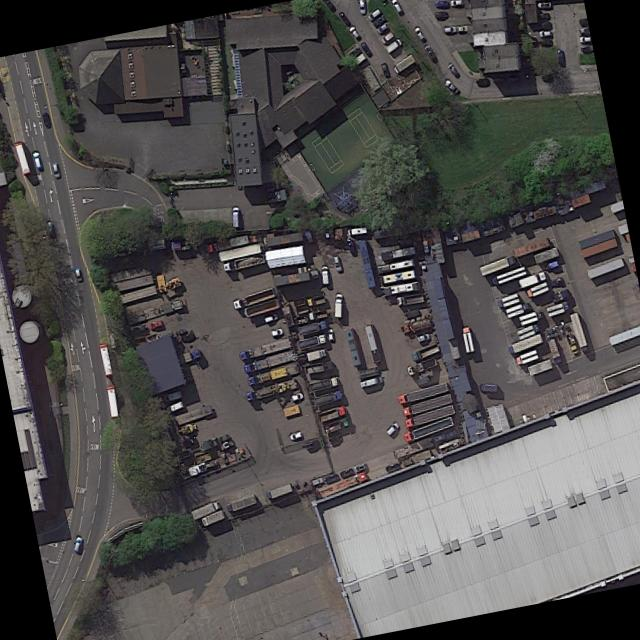large-vehicle: (124, 297, 184, 326), (313, 469, 368, 499), (242, 348, 296, 374), (244, 376, 298, 402), (401, 415, 453, 442), (237, 336, 292, 361), (402, 403, 454, 428), (245, 362, 299, 386), (401, 392, 452, 416), (395, 381, 448, 404), (356, 238, 376, 289), (231, 287, 274, 310), (203, 233, 248, 254), (222, 252, 265, 272), (478, 253, 515, 276), (568, 311, 588, 352), (506, 332, 542, 354), (490, 264, 526, 286), (343, 326, 362, 367), (363, 322, 381, 364), (379, 279, 420, 297), (405, 355, 438, 376), (375, 257, 414, 274), (189, 499, 220, 520), (12, 139, 30, 175), (311, 388, 343, 408), (379, 244, 416, 261), (315, 403, 346, 423), (225, 493, 256, 513), (409, 341, 440, 361), (516, 269, 546, 289), (378, 268, 415, 284), (196, 508, 225, 527), (296, 318, 326, 336), (321, 415, 349, 434), (173, 347, 201, 366), (308, 375, 339, 392), (264, 481, 293, 499), (296, 332, 326, 349), (98, 343, 113, 377), (391, 53, 415, 73), (544, 300, 570, 318), (504, 301, 529, 319), (302, 360, 334, 374), (105, 384, 118, 418), (517, 309, 543, 326), (546, 337, 562, 364), (513, 348, 538, 365), (525, 280, 548, 298), (516, 323, 540, 340), (495, 292, 519, 309), (395, 292, 424, 306), (461, 325, 474, 353), (564, 331, 579, 355), (358, 374, 383, 388), (304, 347, 327, 362), (548, 289, 569, 303), (384, 37, 402, 53), (305, 294, 325, 307), (307, 308, 327, 320), (333, 292, 342, 318), (346, 225, 366, 235), (478, 382, 497, 392), (230, 207, 239, 227), (321, 265, 329, 284)
small-vehicle: (164, 399, 183, 412), (443, 78, 458, 93), (181, 435, 197, 449), (422, 43, 436, 59), (162, 390, 182, 401), (30, 150, 42, 168), (346, 24, 360, 39), (338, 10, 351, 26), (414, 373, 430, 386), (347, 46, 362, 59), (359, 40, 371, 56), (131, 322, 147, 334), (413, 25, 425, 41), (44, 220, 55, 237), (345, 236, 356, 253), (180, 330, 194, 343), (371, 13, 385, 26), (385, 421, 398, 435), (338, 466, 353, 478), (445, 61, 457, 76), (322, 472, 338, 483), (384, 461, 400, 472), (322, 0, 336, 12), (390, 0, 402, 14), (352, 461, 367, 472), (303, 439, 319, 449), (403, 308, 419, 318), (332, 255, 342, 271), (380, 31, 393, 43), (367, 8, 380, 20), (376, 21, 389, 33), (72, 535, 81, 552), (41, 112, 50, 128), (310, 475, 323, 486), (549, 276, 563, 286), (51, 161, 59, 178), (262, 313, 277, 322), (72, 267, 81, 282), (289, 391, 302, 401), (288, 430, 301, 440), (380, 62, 389, 76), (327, 433, 341, 442), (269, 327, 283, 335), (433, 9, 447, 17), (541, 73, 553, 82), (556, 48, 563, 63), (148, 320, 161, 328), (416, 333, 429, 341), (537, 20, 549, 28), (326, 328, 334, 340), (538, 37, 551, 44), (537, 0, 550, 7), (358, 0, 365, 13), (506, 76, 519, 83), (475, 77, 488, 84), (443, 25, 456, 32), (434, 0, 448, 6), (538, 30, 550, 37), (492, 76, 503, 83), (537, 12, 549, 18), (449, 0, 463, 5)
storage-tank: (8, 282, 37, 309), (17, 318, 44, 344)
